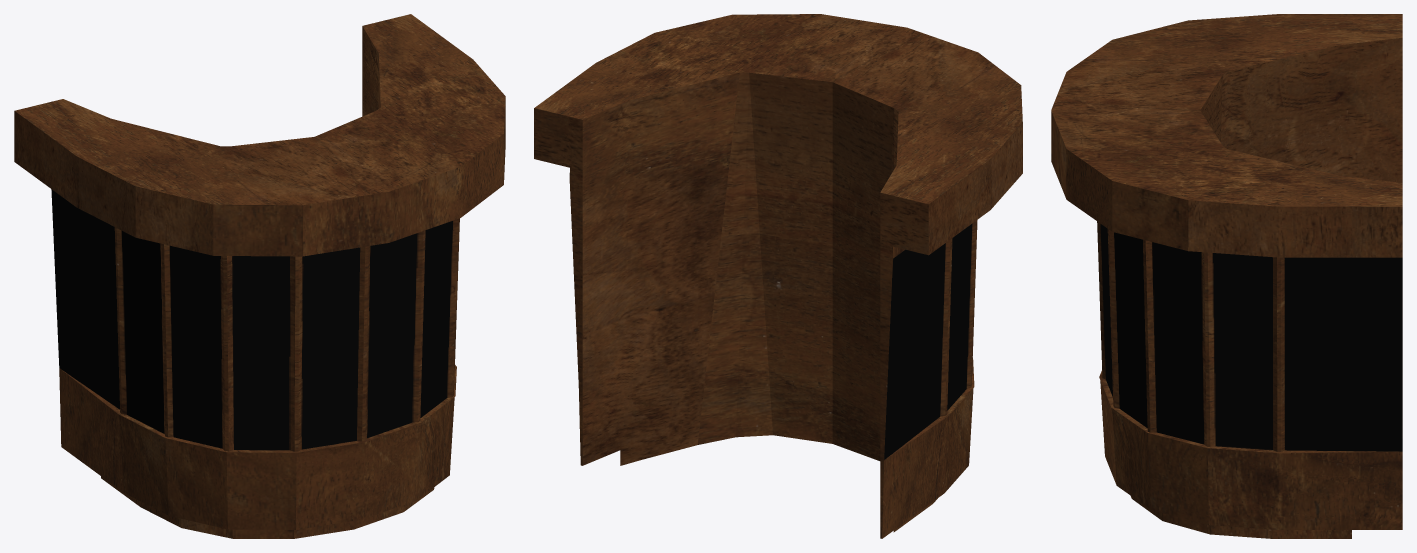
The model's file is masterpodium.fbx.
The picture shows the model from 3 angles, left to right: view 1: azimuth 30°, elevation 25°; view 2: azimuth 150°, elevation 25°; view 3: azimuth 270°, elevation 25°; orthographic projection.
Visible parts, largest first — view 1: host_Podium.002; view 2: host_Podium.002; view 3: host_Podium.002.
Part boxes in pixels (x1,y1,x2,y2): host_Podium.002: (14,14,505,538); host_Podium.002: (534,14,1022,538); host_Podium.002: (1051,14,1402,538).
Bounding box in the file's own units: 1.97 × 1.73 × 1.52.
Materials: 1 (1 with a texture image).
